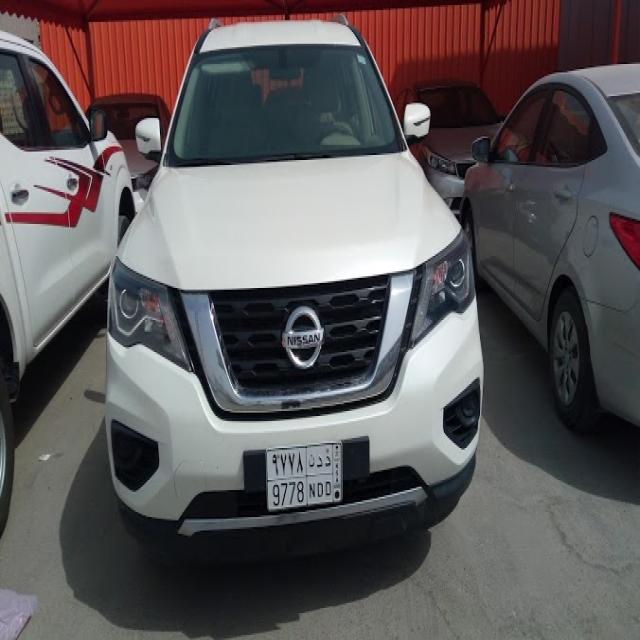license_plate: (264, 440, 344, 516)
